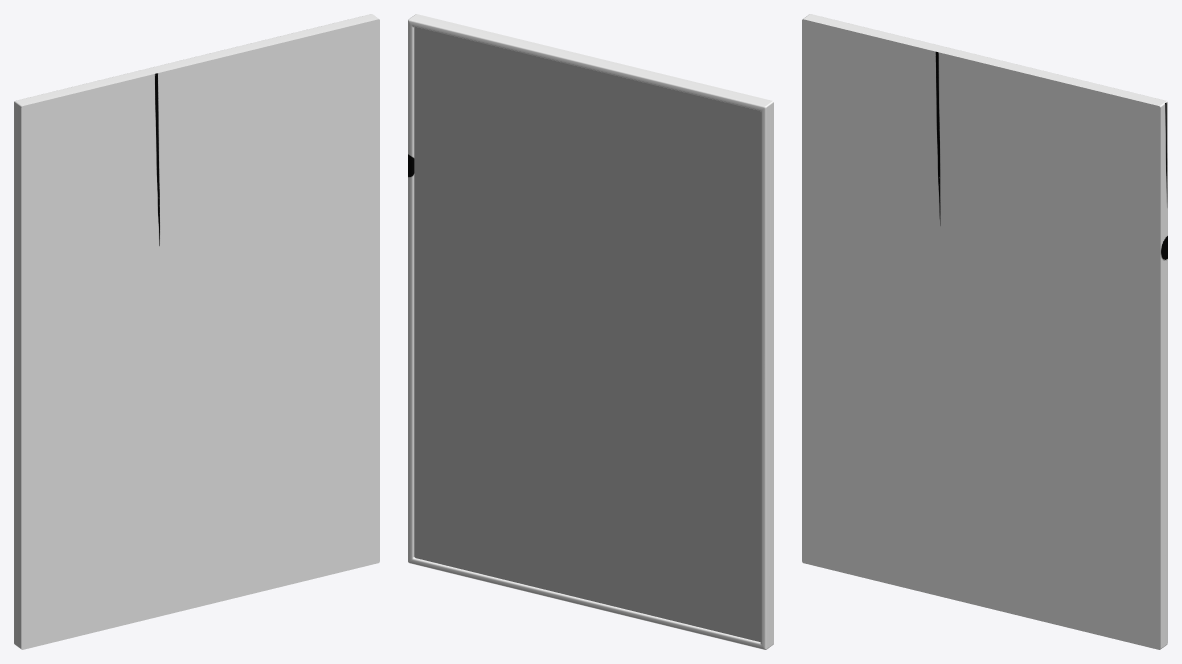
File: MSH_ETC_Poster2.fbx
3 views of the same model, side by side, from view 1: azimuth 30°, elevation 25°; view 2: azimuth 150°, elevation 25°; view 3: azimuth 330°, elevation 25° (orthographic).
Parts seen in each view (by area): view 1: Frame_1; view 2: Glass, Frame_1; view 3: Frame_1.
Boxes of the visible parts, bbox=[...] form: Frame_1: bbox=[14, 14, 379, 649]; Glass: bbox=[414, 26, 761, 642]; Frame_1: bbox=[408, 14, 773, 649]; Frame_1: bbox=[802, 14, 1167, 649].
Size of the model in its own units: 63.14 by 91.52 by 2.43.
Materials: 3 (1 with a texture image).
